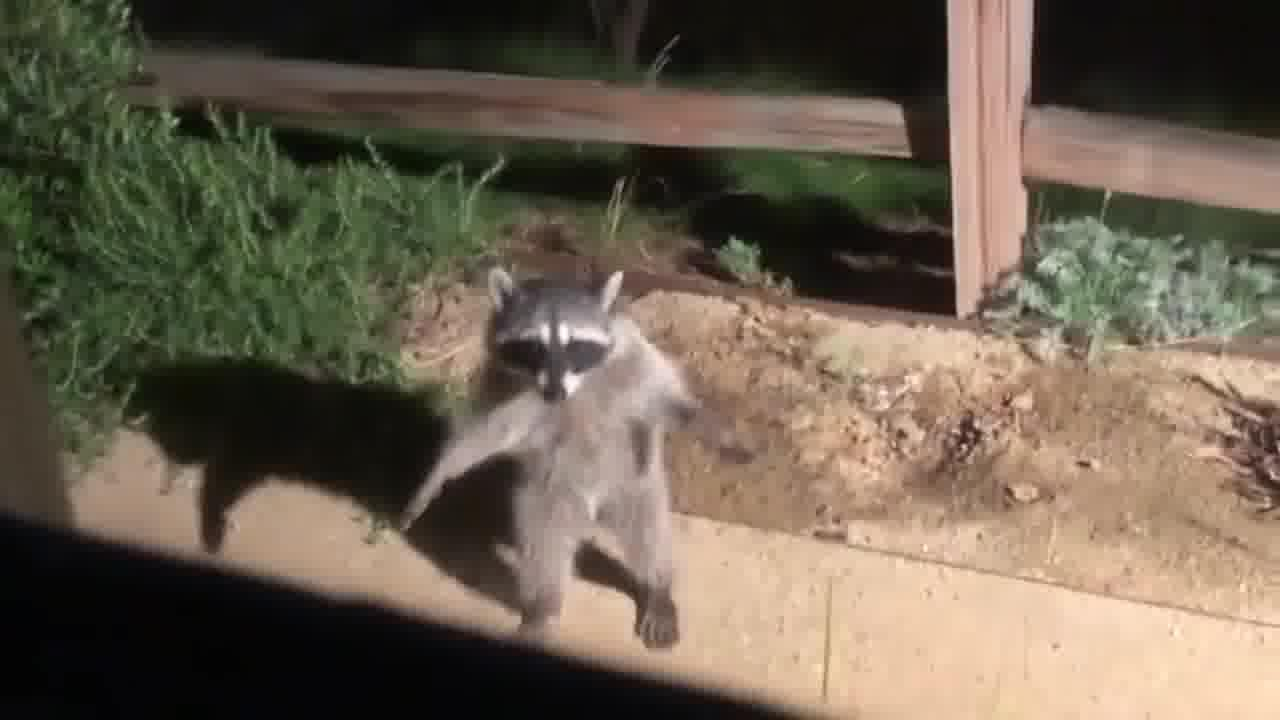raccoon: (396, 262, 762, 659)
